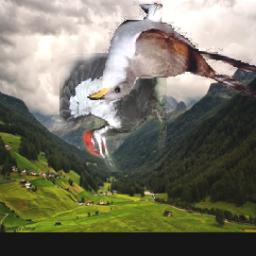Cuckoo: (88, 1, 256, 101)
Woodpecker: (61, 53, 168, 172)
